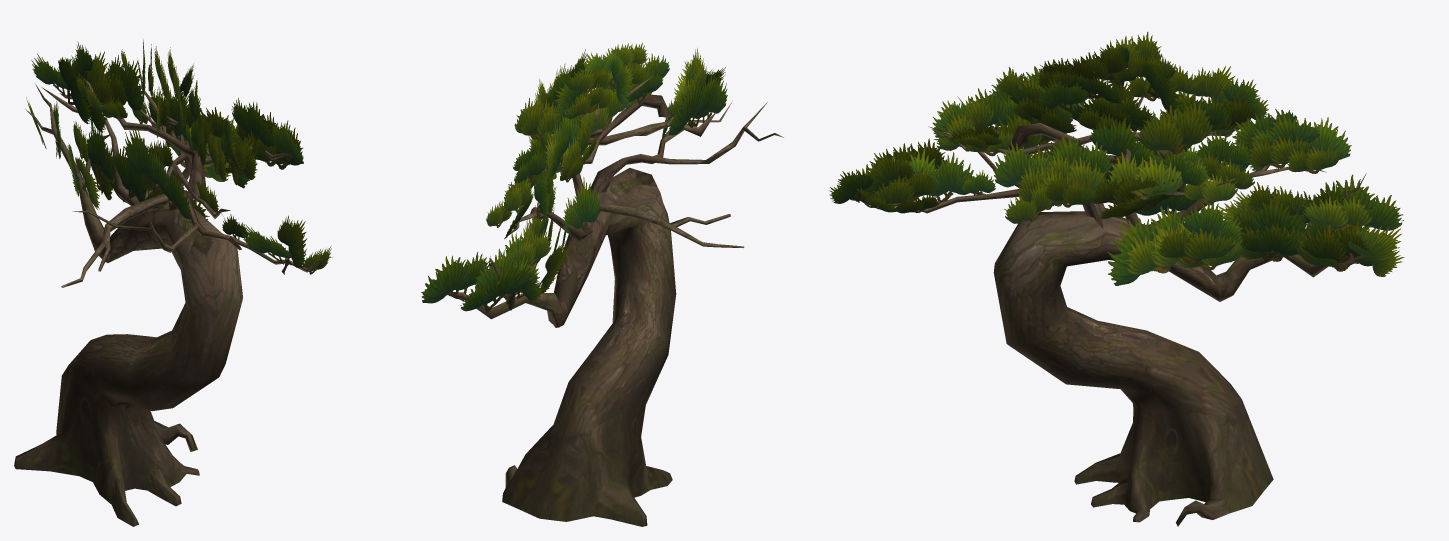
File: map_xuanren_shu_1.fbx
3 views of the same model, side by side, from view 1: azimuth 30°, elevation 25°; view 2: azimuth 150°, elevation 25°; view 3: azimuth 270°, elevation 25° (orthographic). The views are drawn at different scales.
Parts seen in each view (by area): view 1: polySurface1675; view 2: polySurface1675; view 3: polySurface1675.
Boxes of the visible parts, x1,y1,x2,y2 form: polySurface1675: (14,39,332,526); polySurface1675: (421,42,783,526); polySurface1675: (829,32,1404,526).
Size of the model in its own units: 0.6179 by 1.16 by 1.36.
